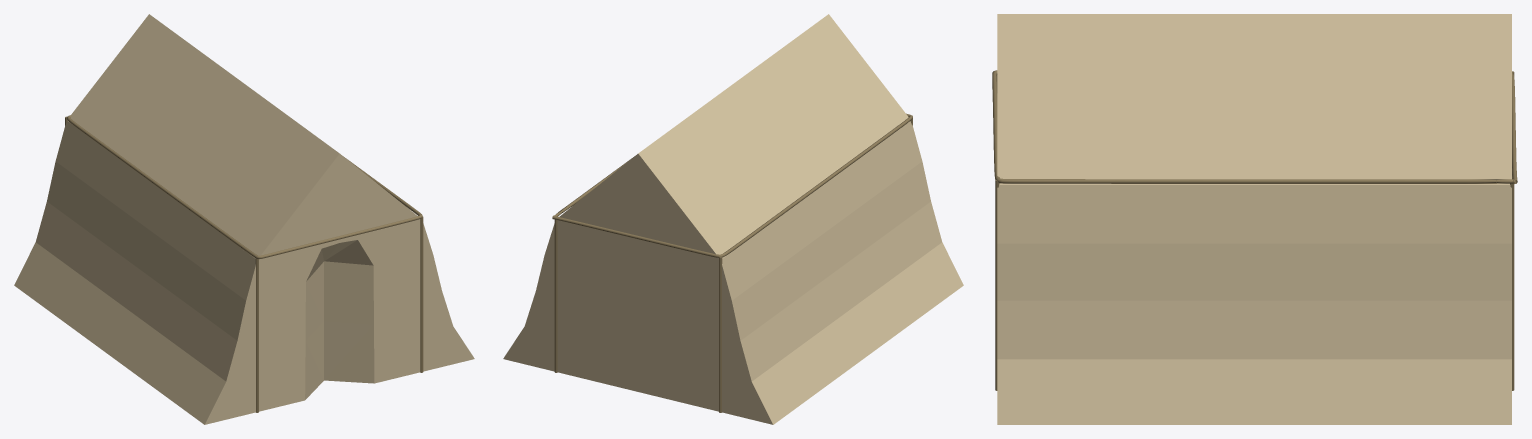
File: tent.fbx
3 views of the same model, side by side, from view 1: azimuth 30°, elevation 25°; view 2: azimuth 150°, elevation 25°; view 3: azimuth 270°, elevation 25° (orthographic). The views are drawn at different scales.
Parts seen in each view (by area): view 1: Cube, NurbsPath, Cylinder, Cylinder.001; view 2: Cube, NurbsPath, Cylinder.003, Cylinder.002; view 3: Cube, NurbsPath, Cylinder, Cylinder.003.
Part boxes in pixels (x1,y1,x2,y2): Cube: (14,14,474,424); NurbsPath: (66,115,422,259); Cylinder: (420,216,423,372); Cylinder.001: (255,258,258,412); Cube: (503,14,963,424); NurbsPath: (552,113,912,257); Cylinder.003: (554,216,557,372); Cylinder.002: (719,256,722,412); Cube: (997,14,1511,424); NurbsPath: (992,70,1517,184); Cylinder: (995,180,999,390); Cylinder.003: (1510,183,1514,390).
Bounding box in the file's own units: 328 × 276 × 409.
